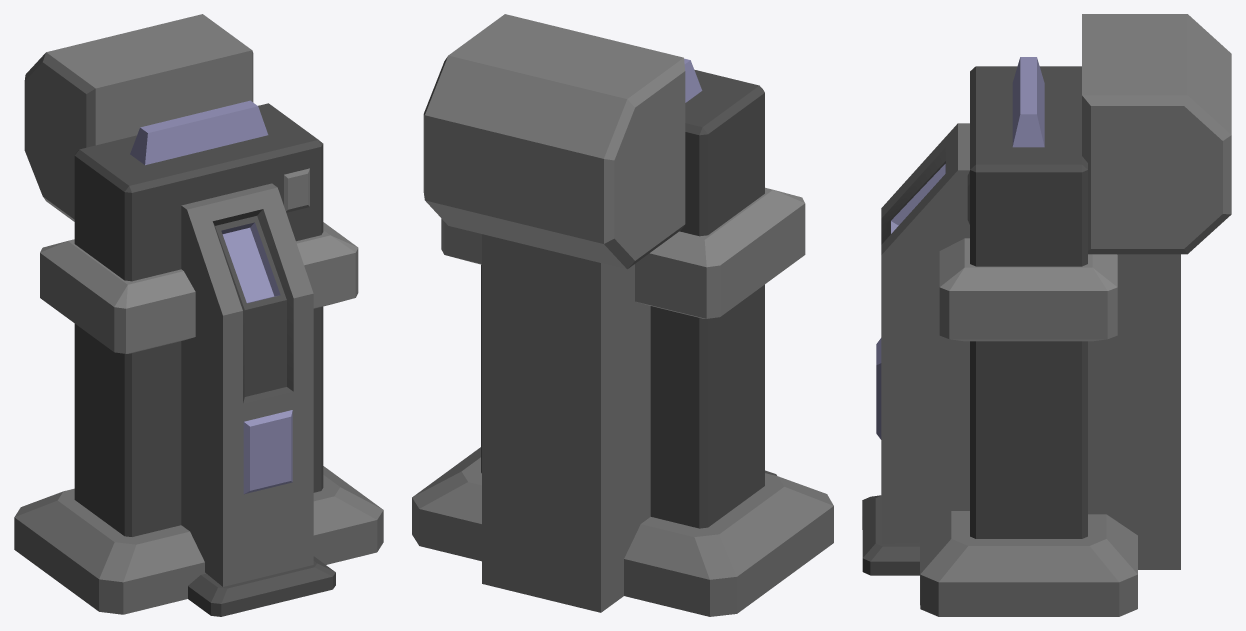
The model's file is Machine_Programmation.fbx.
3 renders of one model, left to right at view 1: azimuth 30°, elevation 25°; view 2: azimuth 150°, elevation 25°; view 3: azimuth 270°, elevation 25°, orthographic. The views are drawn at different scales.
Visible parts, largest first — view 1: Machine_Programmation; view 2: Machine_Programmation; view 3: Machine_Programmation.
Boxes of the visible parts, x1,y1,x2,y2 form: Machine_Programmation: [14, 14, 383, 616]; Machine_Programmation: [412, 14, 833, 616]; Machine_Programmation: [862, 14, 1231, 616].
Size of the model in its own units: 74.16 by 114 by 78.23.
